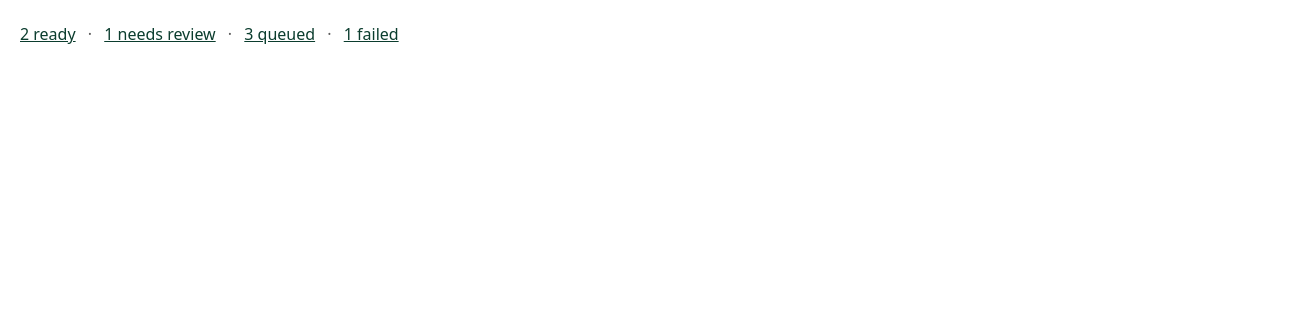
Test: inbox UI › renders inbox counts and does not label completed_needs_review as Ready
Click the button "2 ready".
click(48, 34)  # box 12,12 -> 84,56
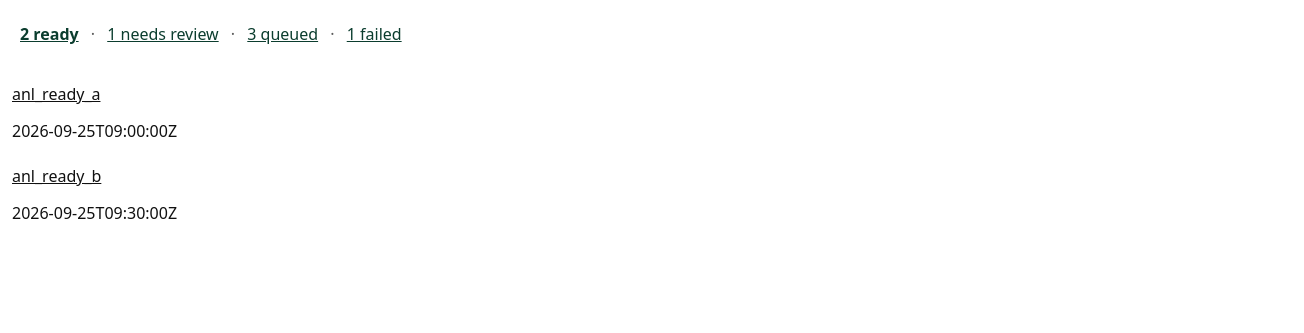
Expected: the text "anl_review" is not shown
Click the button "1 needs review".
click(163, 34)  # box 99,12 -> 227,56
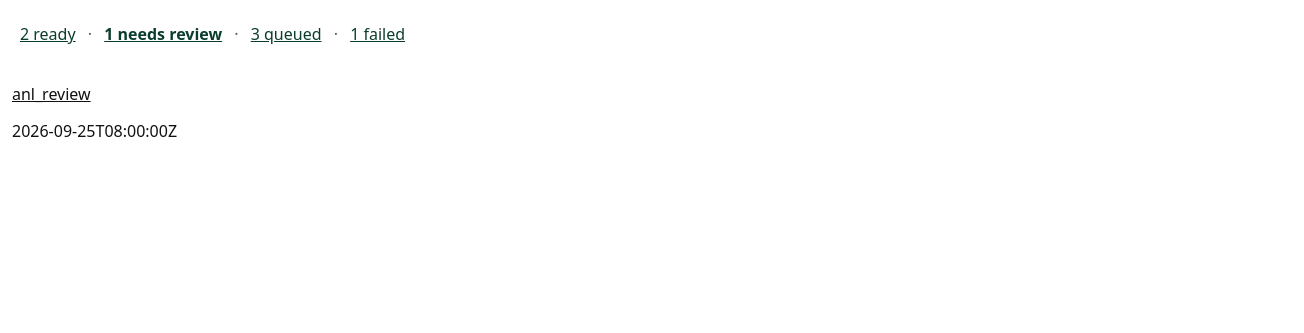
Click the button "3 queued".
click(286, 34)  # box 243,12 -> 330,56
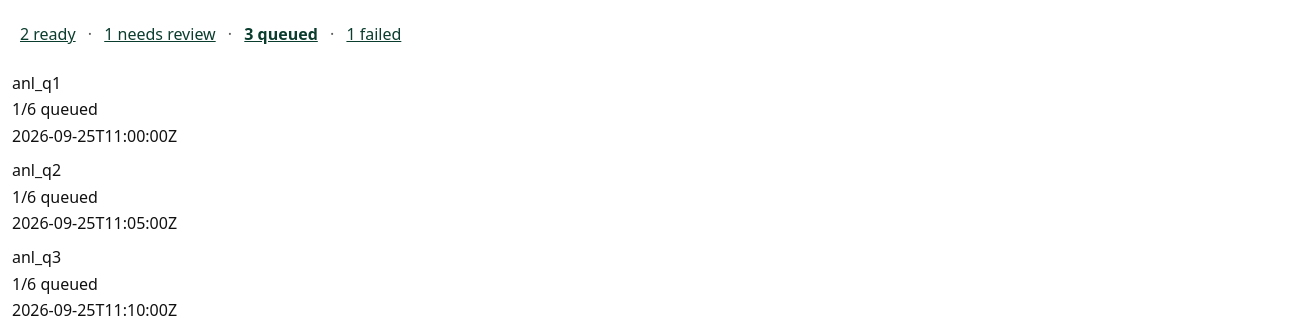
Expected: the text "1/6 queued" is shown 3 times, 12,98 -> 98,121; 12,186 -> 98,208; 12,273 -> 98,295
Expected: the text "2026-09-25T11:00:00Z" is shown, 12,125 -> 177,147
Expected: the link "anl_review" is gone
Click the button "1 failed".
click(374, 34)  # box 338,12 -> 409,56
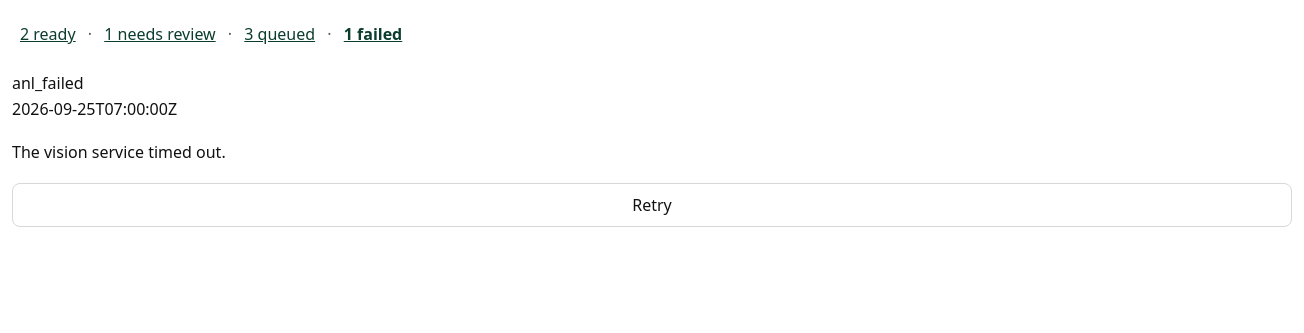
Expected: the text "The vision service timed out." is shown, 12,141 -> 226,163
Expected: the button "Retry" is shown, 12,183 -> 1292,227
